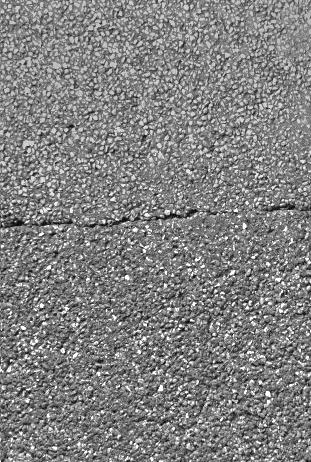crack: (12, 193, 308, 256)
